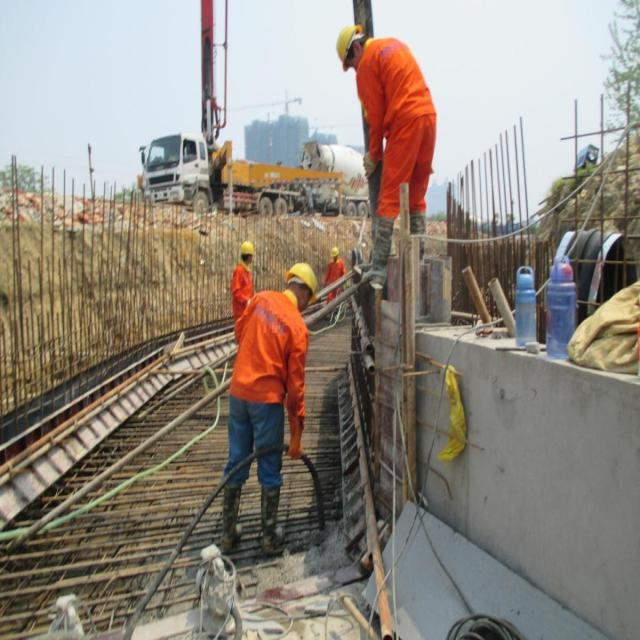truck: (127, 0, 406, 271)
